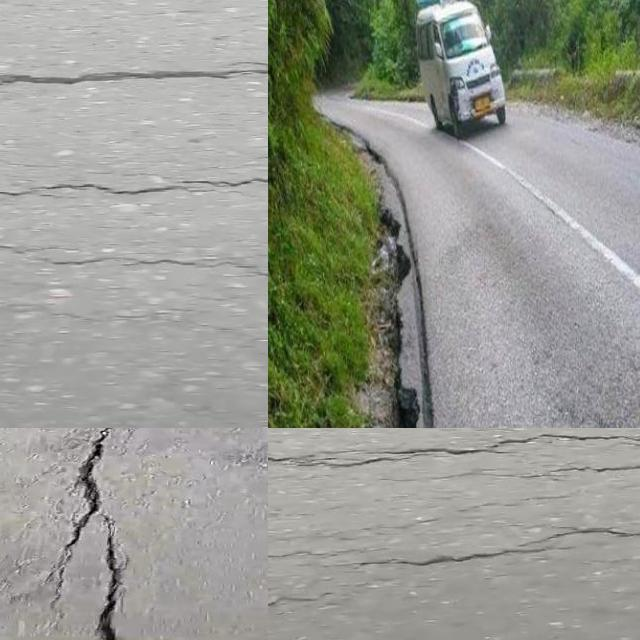Melintang: (268, 428, 640, 495), (336, 508, 640, 580), (0, 49, 268, 106), (0, 161, 268, 218)
Memanjang: (69, 428, 130, 640)
Pinggir: (349, 137, 445, 428)
